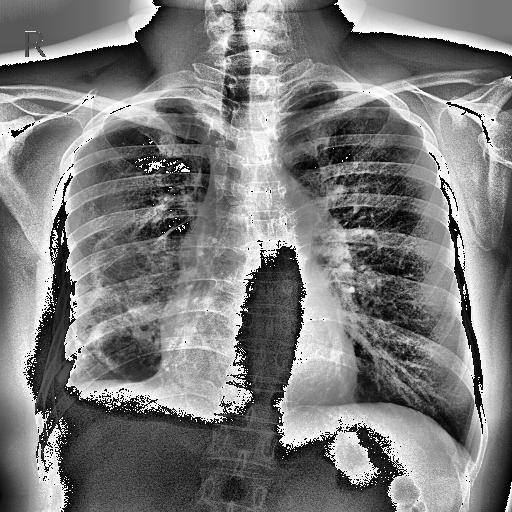10- Pleural effusion: (44, 344, 94, 425), (44, 341, 92, 419), (40, 380, 128, 418)
11- Pleural thickening: (86, 211, 196, 346), (56, 214, 84, 382), (99, 94, 215, 134), (108, 99, 202, 124)
13- Pulmonary fibrosis: (156, 219, 190, 238)
2- Calcification: (56, 346, 88, 384)
6- Infiltration: (86, 236, 170, 368)
7- Lung Opacity: (86, 211, 196, 346), (82, 238, 162, 338), (95, 346, 127, 376)
9- Other lesion: (56, 360, 79, 384)
